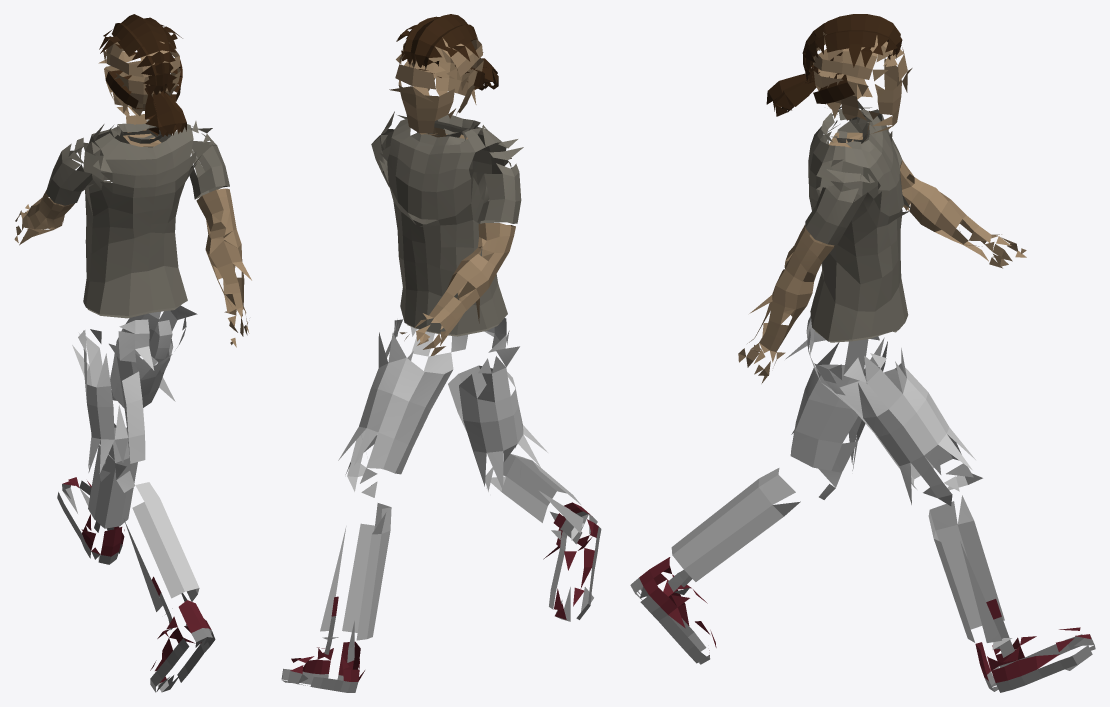
Rendered from person_9_w2.fbx.
3 renders of one model, left to right at view 1: azimuth 30°, elevation 25°; view 2: azimuth 150°, elevation 25°; view 3: azimuth 270°, elevation 25°, orthographic. The views are drawn at different scales.
Parts seen in each view (by area): view 1: Casual2_Feet; view 2: Casual2_Feet; view 3: Casual2_Feet.
Boxes of the visible parts, box(x1,y1,x2,y2) form: Casual2_Feet: box(14, 14, 251, 692); Casual2_Feet: box(281, 14, 601, 692); Casual2_Feet: box(630, 14, 1095, 692).
Size of the model in its own units: 0.2611 by 0.9996 by 0.6259.
